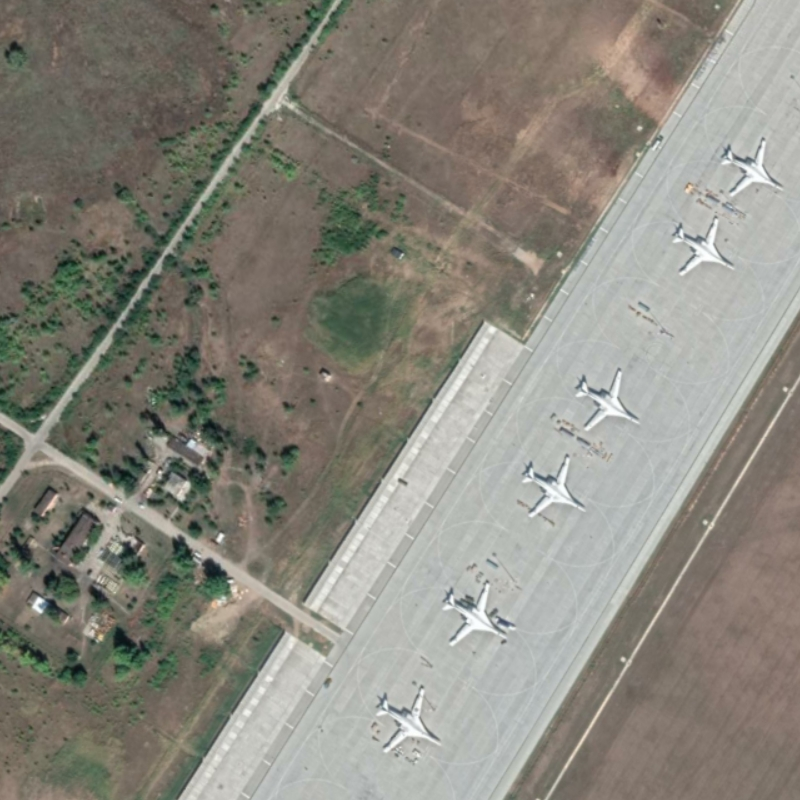A6: (433, 573, 514, 651), (370, 678, 445, 755), (567, 363, 644, 434), (663, 211, 740, 281), (714, 131, 789, 200), (514, 450, 589, 519)
